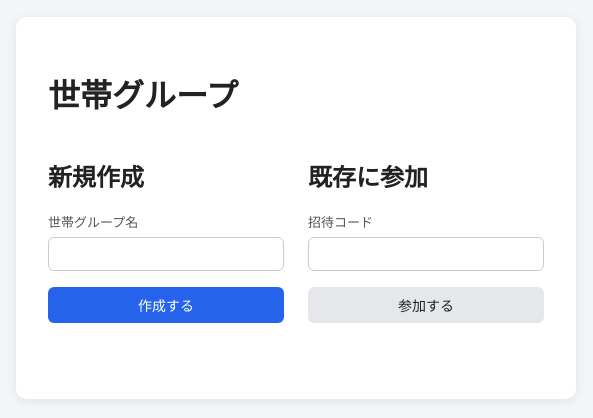
Test case: HouseholdPage › 作成失敗（400・既所属）はAPIのメッセージを表示する
Step 1. Type "山田家" into the field labelled "世帯グループ名" → (166, 254), box [48,237,284,271]
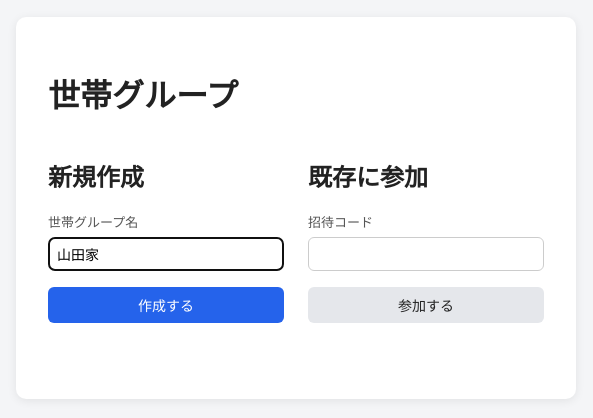
Step 2. Click the button "作成する" → (166, 305), box [48,287,284,323]
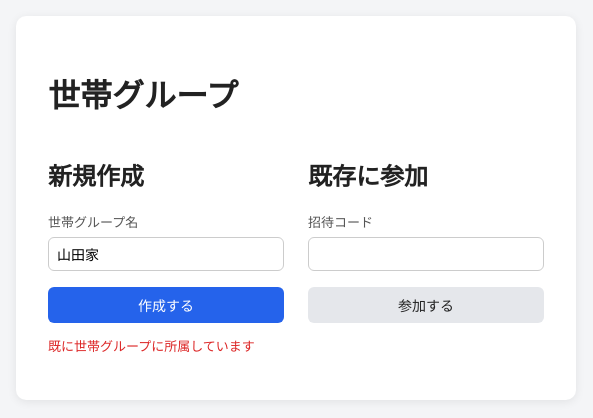
Expected: the text "既に世帯グループに所属しています" is shown, [48,338,255,354]
